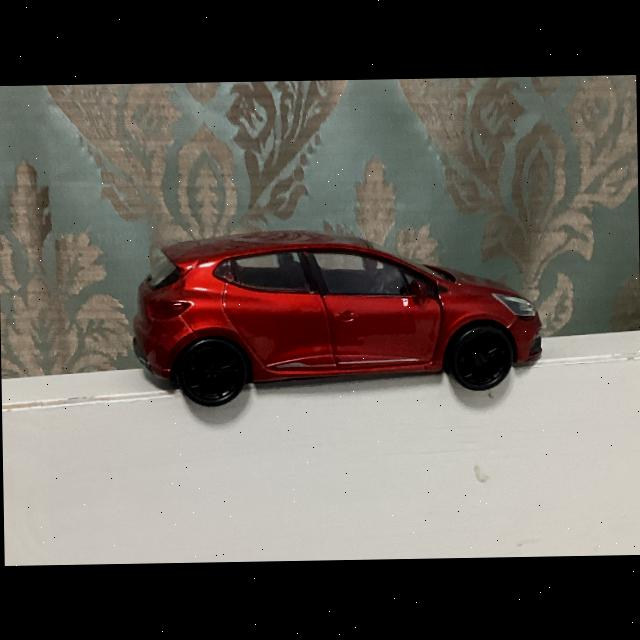Dogru_Jant: (185, 344, 239, 396), (458, 332, 505, 382)
